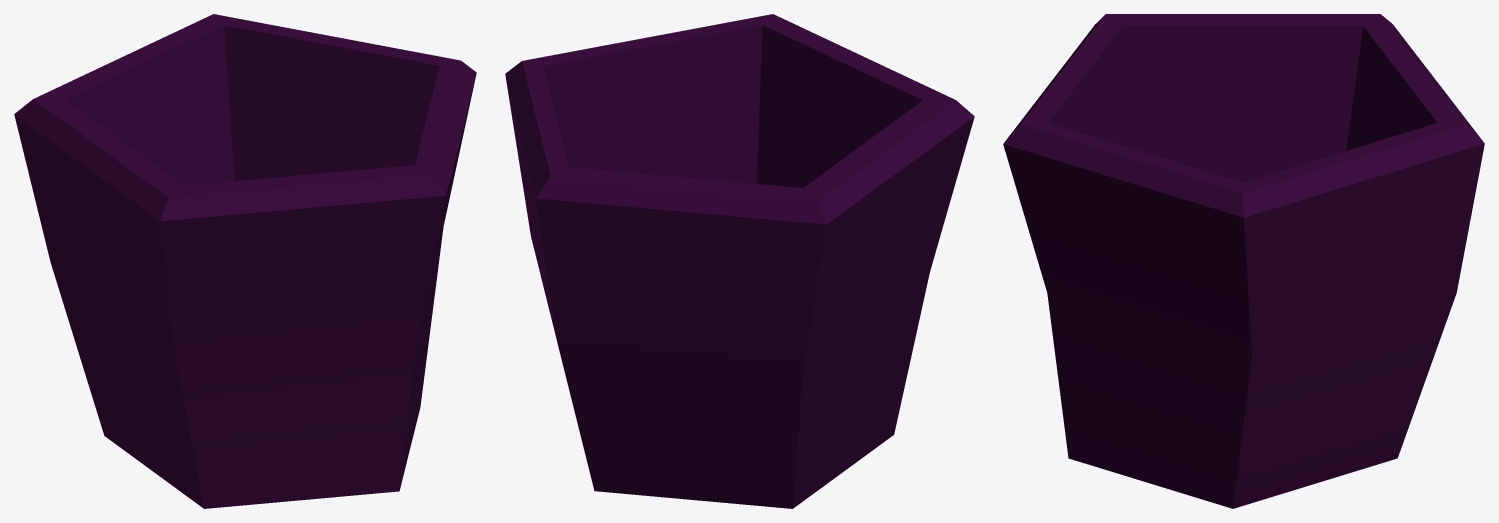
Rendered from Tacho Basura.fbx.
The picture shows the model from 3 angles, left to right: view 1: azimuth 30°, elevation 25°; view 2: azimuth 150°, elevation 25°; view 3: azimuth 270°, elevation 25°; orthographic projection.
Parts seen in each view (by area): view 1: Tacho; view 2: Tacho; view 3: Tacho.
Boxes of the visible parts, x1,y1,x2,y2 form: Tacho: (14, 14, 476, 508); Tacho: (505, 14, 974, 508); Tacho: (1003, 14, 1484, 508).
Size of the model in its own units: 0.3624 by 0.2953 by 0.381.
